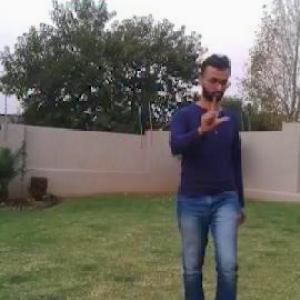land_hand: (196, 92, 232, 137)
